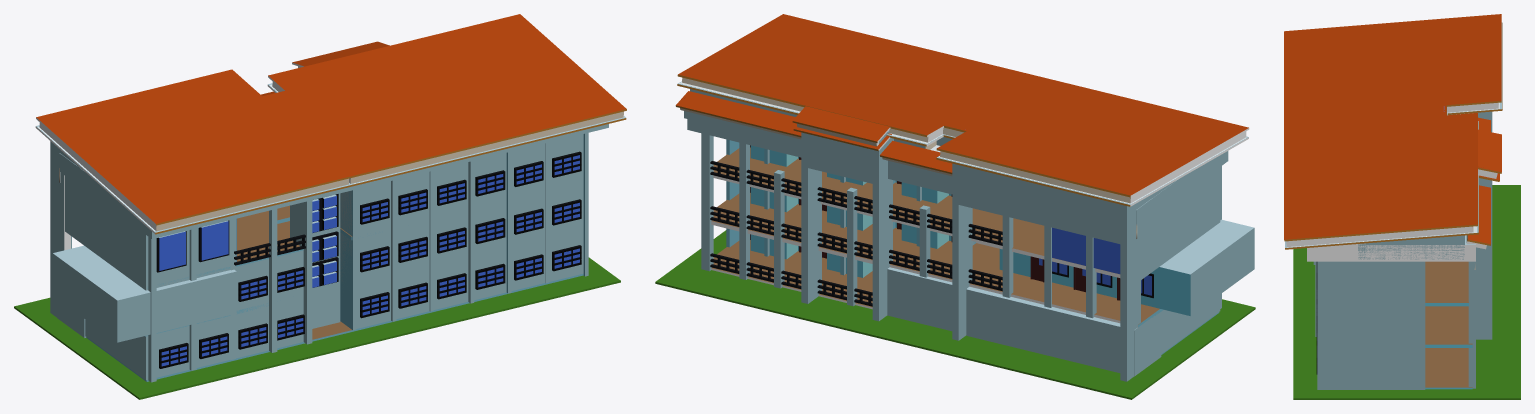
The model's file is COE.gltf.
The picture shows the model from 3 angles, left to right: view 1: azimuth 30°, elevation 25°; view 2: azimuth 150°, elevation 25°; view 3: azimuth 270°, elevation 25°; orthographic projection. The views are drawn at different scales.
Visible parts, largest first — view 1: cube (×35); view 2: cube (×51); view 3: cube (×22).
Boxes of the visible parts, x1,y1,x2,y2 form: cube (×35): (14, 14, 626, 399); cube (×51): (655, 14, 1255, 399); cube (×22): (1284, 14, 1520, 399).
Bounding box in the file's own units: 17.59 × 6.68 × 8.06.
Materials: 17 (17 with a texture image).
